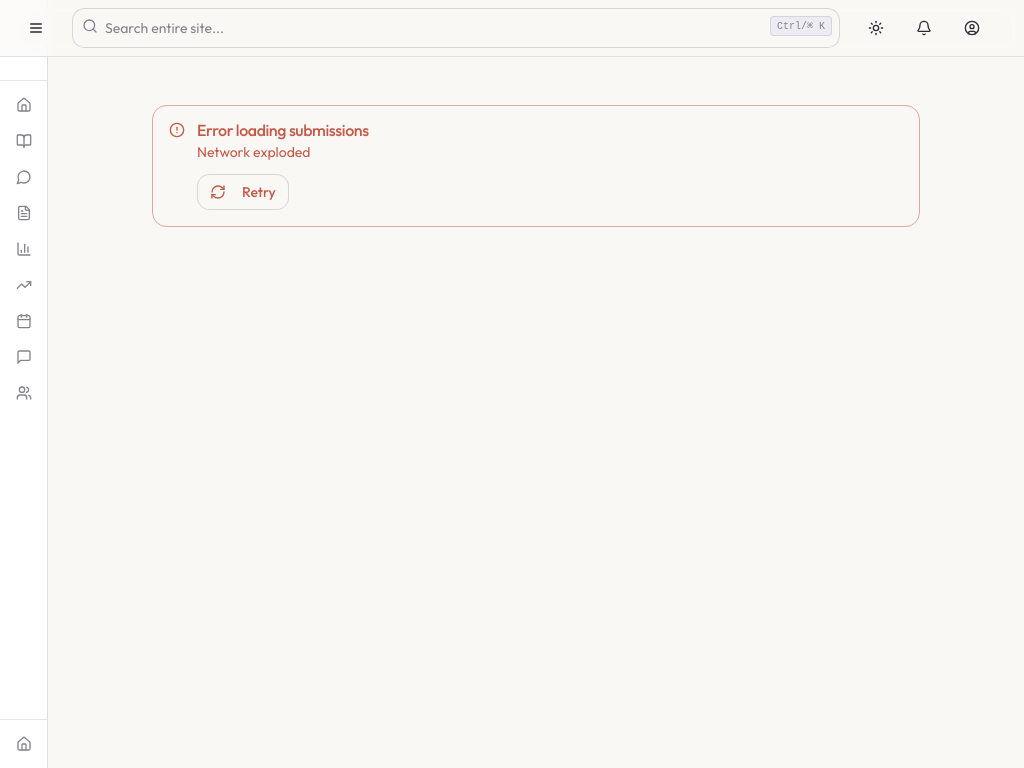
Test: CanvasGradingInterface › shows an error state with retry when loading fails, not a blank grading screen
Expected: the heading "Error loading submissions" is shown, [197,120,369,140]
Expected: the text "Network exploded" is shown, [197,143,310,161]
Click the button "Retry" at (243, 192), box [197,174,289,210]
(page scrolled)
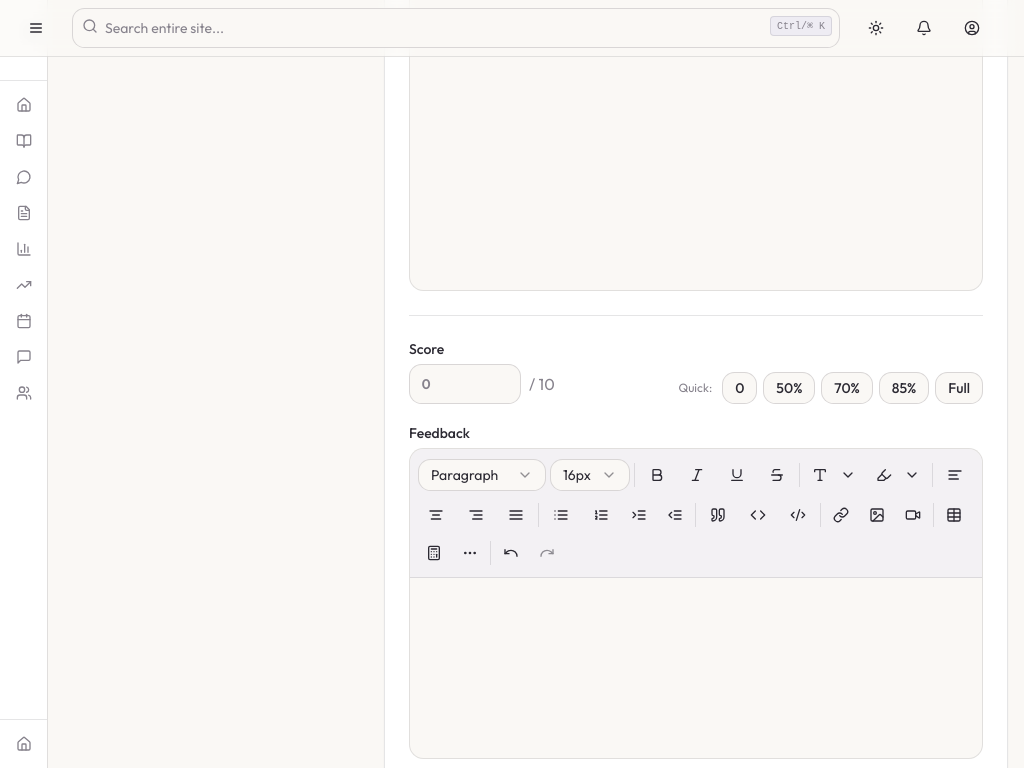
Now the number field labelled "Score" is shown, box [409,364,521,404]
